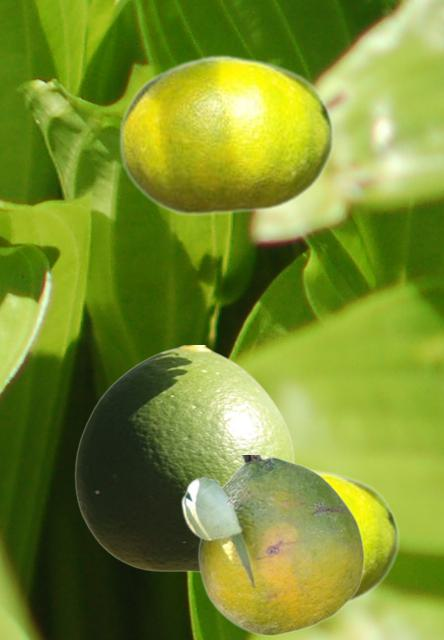dalandan: (74, 345, 294, 572), (118, 54, 333, 216), (180, 455, 364, 635), (310, 467, 398, 606)
